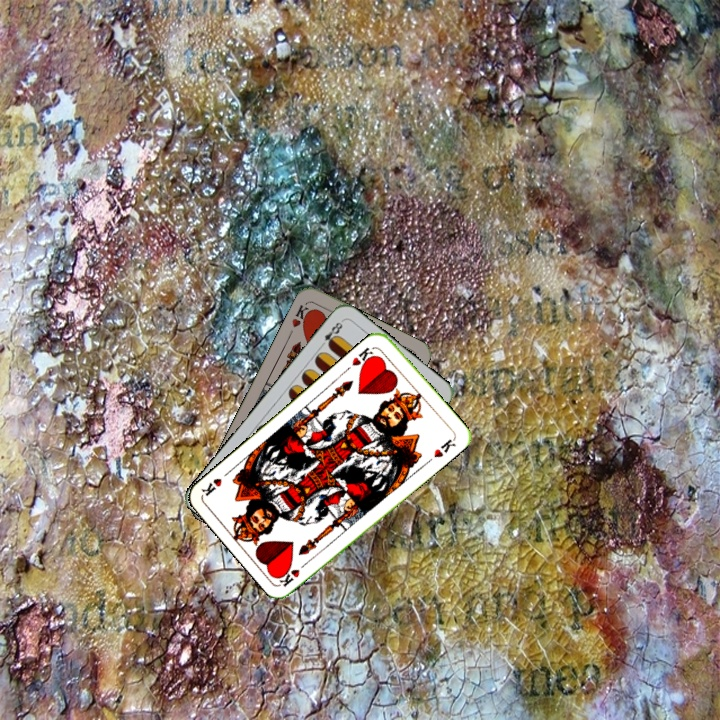E8: (315, 317, 346, 351)
HK: (276, 556, 312, 589), (348, 343, 379, 372), (288, 299, 314, 330)
